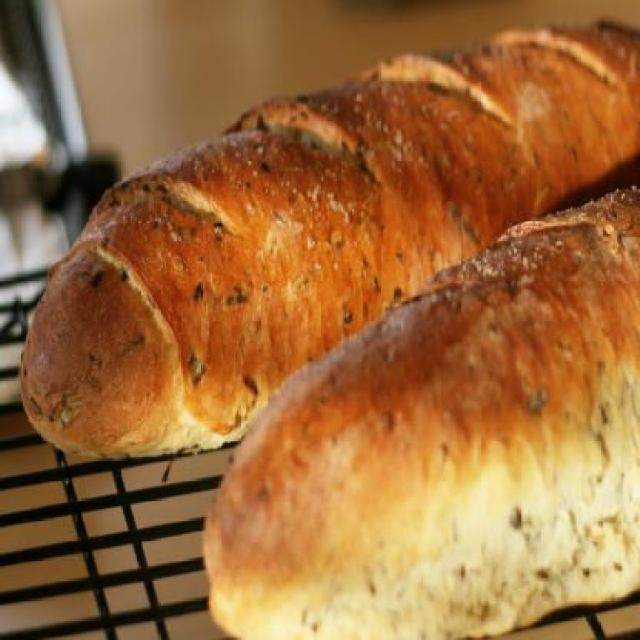Bread: (21, 9, 638, 440), (201, 188, 640, 639)
